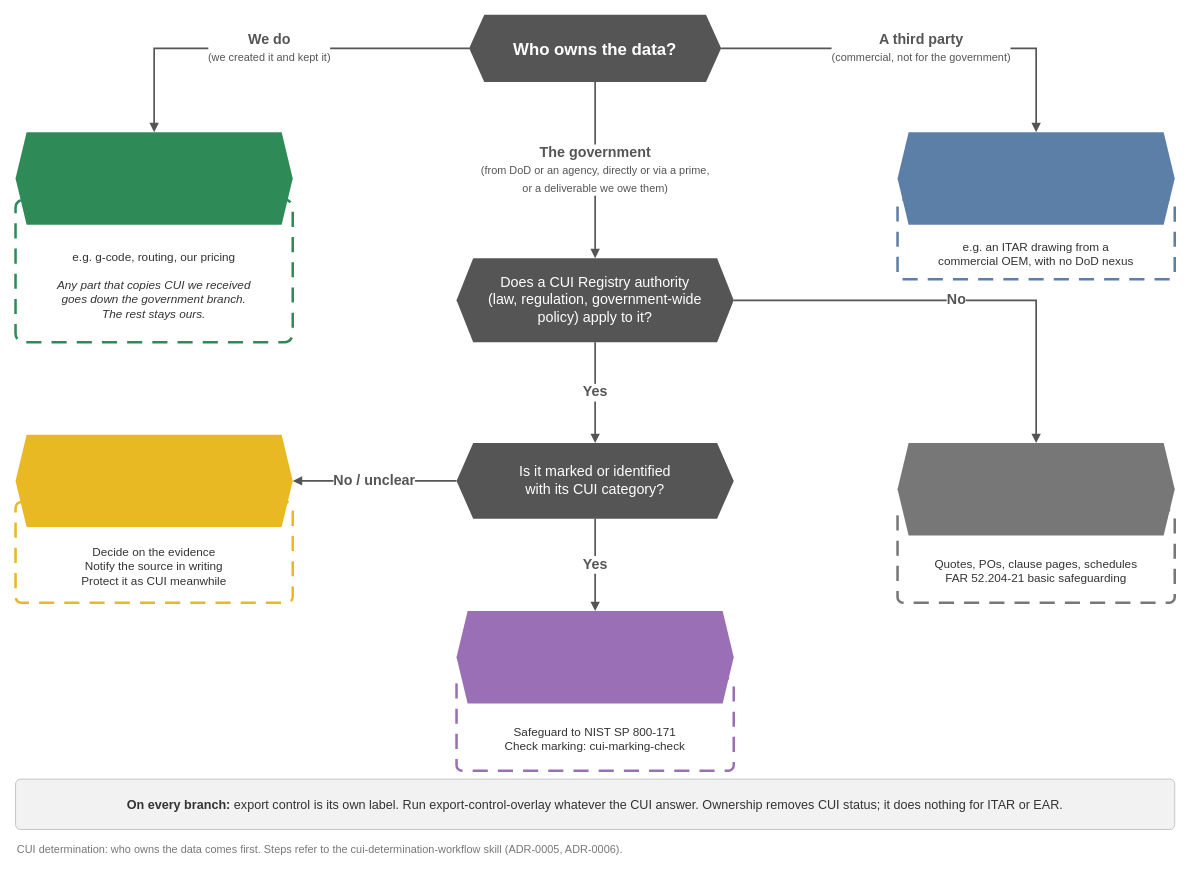
Some shapes in this 1190 by 877 pixel diagram are drawn without their labels. The centre of each missing label's shape, as x and y in pixels:
"CUI With its Registry category" goes at (594,657).
"Not CUI FCI" goes at (1035,489).
"Our own Not CUI to us Proprietary (own)" goes at (153,178).
"Potentially CUI Notice sent" goes at (153,480).
"Third party Not CUI Proprietary (third-party)" goes at (1035,178).
